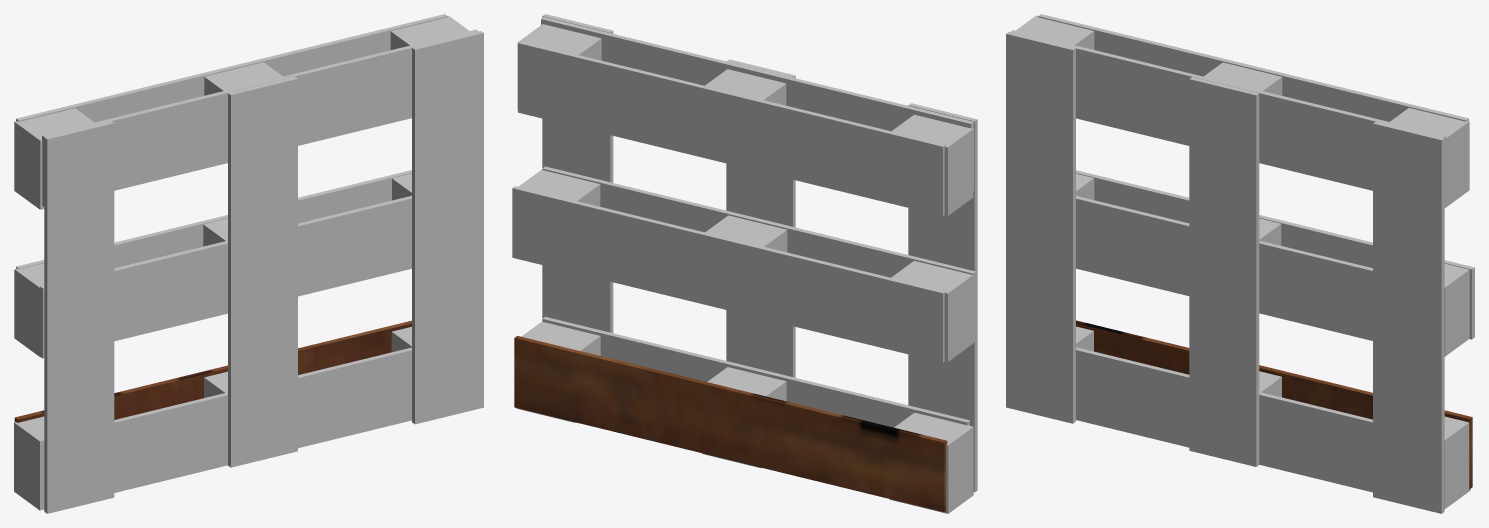
Rendered from woodpallet_wtf.obj.
3 views of the same model, side by side, from view 1: azimuth 30°, elevation 25°; view 2: azimuth 150°, elevation 25°; view 3: azimuth 330°, elevation 25° (orthographic).
Parts seen in each view (by area): view 1: group19, group20, group18, group17, group15, group16, group5, group3, group4, group14, group9, group8 (+3 smaller); view 2: group4, group3, group5, group20, group17, group15, group16, group19, group18, group8, group14, group9 (+6 smaller); view 3: group19, group18, group20, group17, group16, group15, group5, group3, group4, group13, group7, group11 (+2 smaller).
Boxes of the visible parts, x1,y1,x2,y2 form: group19: (412, 31, 483, 424); group20: (44, 121, 114, 513); group18: (228, 76, 297, 467); group17: (42, 29, 478, 206); group15: (40, 195, 411, 358); group16: (114, 347, 411, 492); group5: (16, 14, 447, 122); group3: (14, 320, 411, 422); group4: (16, 170, 411, 269); group14: (14, 108, 94, 209); group9: (14, 416, 44, 510); group8: (14, 263, 44, 357); group4: (512, 186, 945, 362); group3: (514, 336, 947, 512); group5: (518, 41, 945, 216); group20: (908, 103, 977, 492); group17: (541, 17, 973, 191); group15: (542, 166, 975, 342); group16: (542, 316, 969, 427); group19: (542, 14, 613, 332); group18: (726, 59, 795, 377); group8: (891, 260, 973, 361); group14: (892, 114, 973, 215); group9: (889, 412, 973, 513); group19: (1373, 121, 1444, 513); group18: (1189, 77, 1259, 466); group20: (1006, 32, 1075, 423); group17: (1011, 30, 1445, 206); group16: (1076, 347, 1372, 492); group15: (1076, 196, 1372, 340); group5: (1038, 14, 1468, 121); group3: (1076, 320, 1472, 489); group4: (1076, 170, 1474, 339); group13: (1390, 108, 1469, 208); group7: (1444, 263, 1469, 356); group11: (1444, 416, 1470, 508).
Bounding box in the file's own units: 660 × 539 × 86.36.
